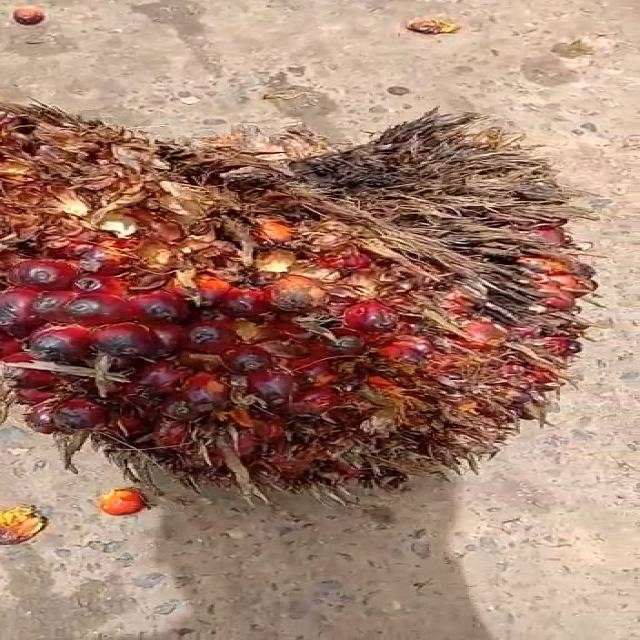palm oil: (0, 88, 590, 486)
